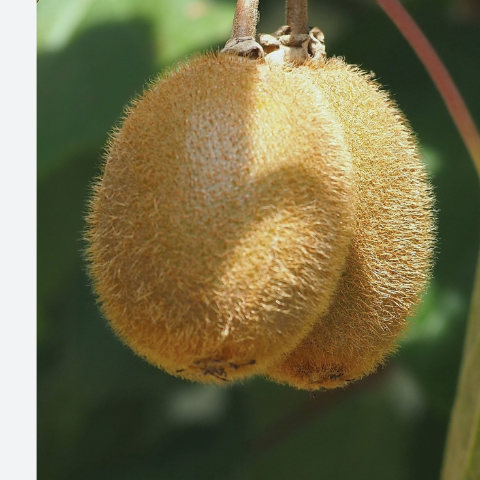kiwi: (83, 27, 355, 411)
